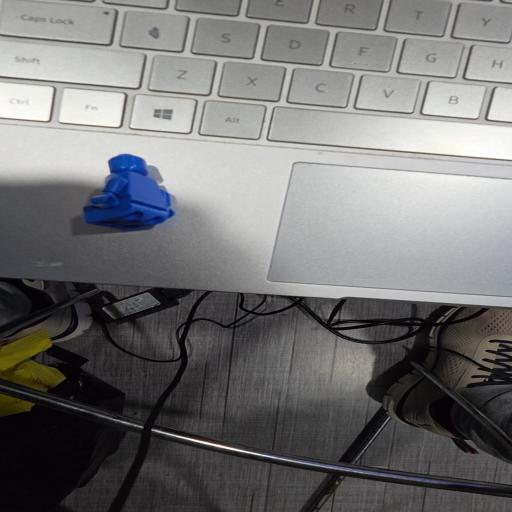Blue: (83, 154, 174, 231)
